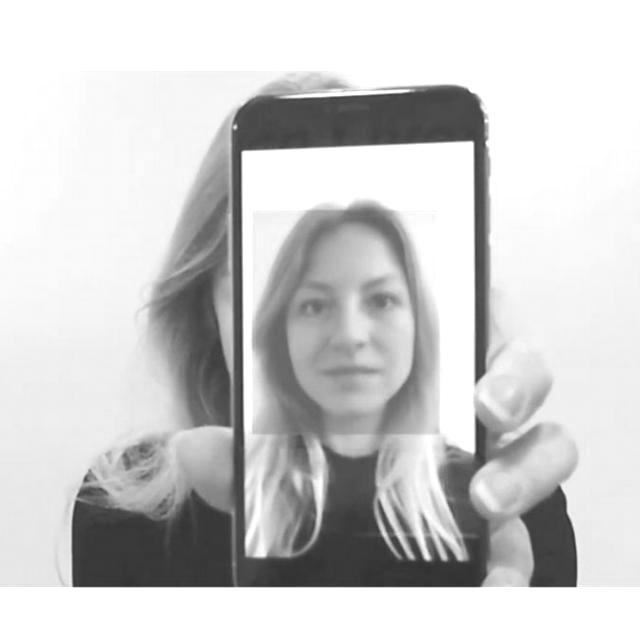fake: (234, 88, 494, 586)
